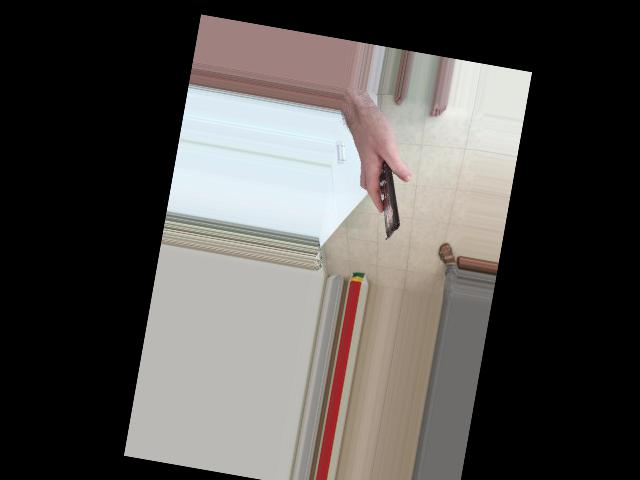chocolate: (348, 122, 418, 244)
